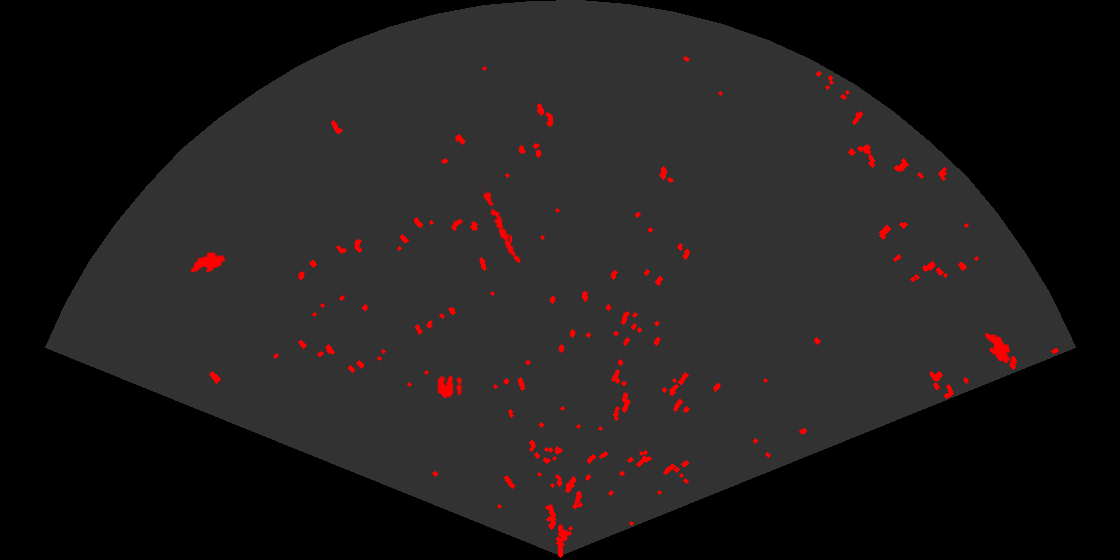AUV: (983, 331, 1012, 365), (189, 250, 227, 274)
ball: (436, 373, 463, 400)
chain: (481, 187, 522, 265)
